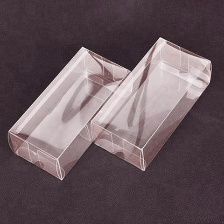plastic_box: (2, 40, 139, 185), (85, 32, 216, 175)
